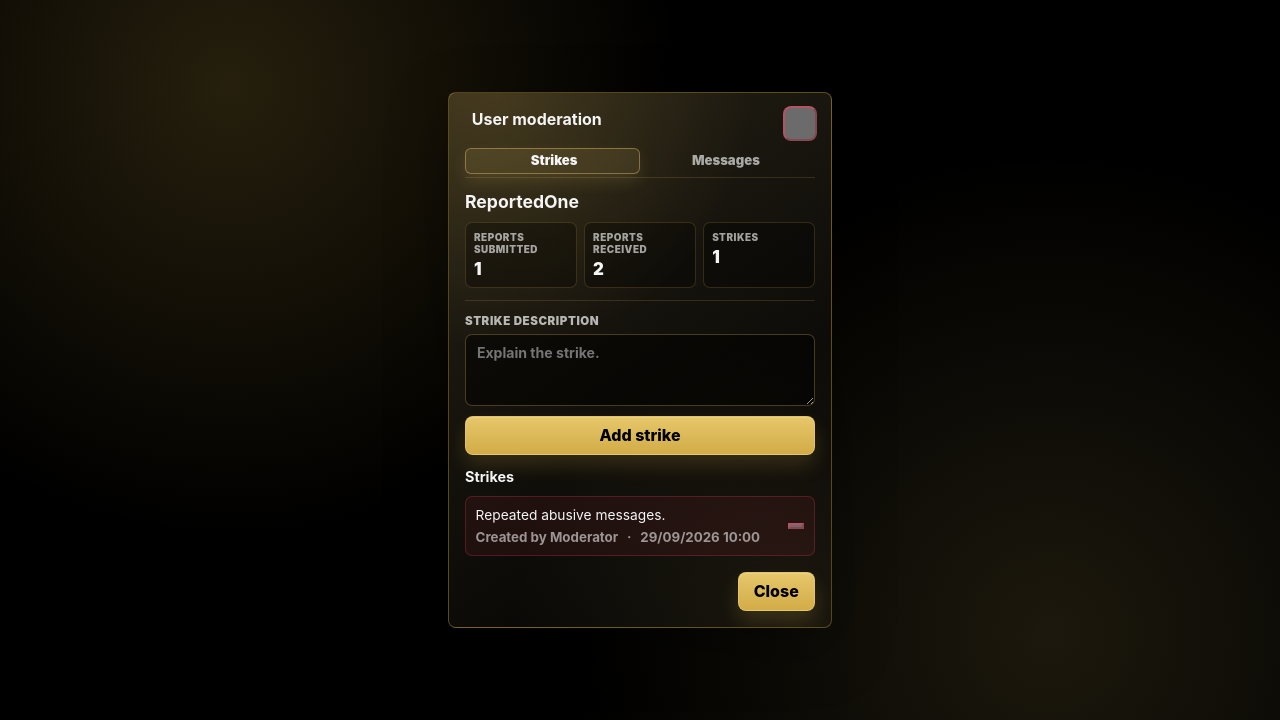
Test case: ModerationUserDrawerComponent › loads messages only after the Messages tab is selected and expands their content on demand
Step 1. Click the tab "Messages" → [726, 161], box [640, 148, 812, 174]
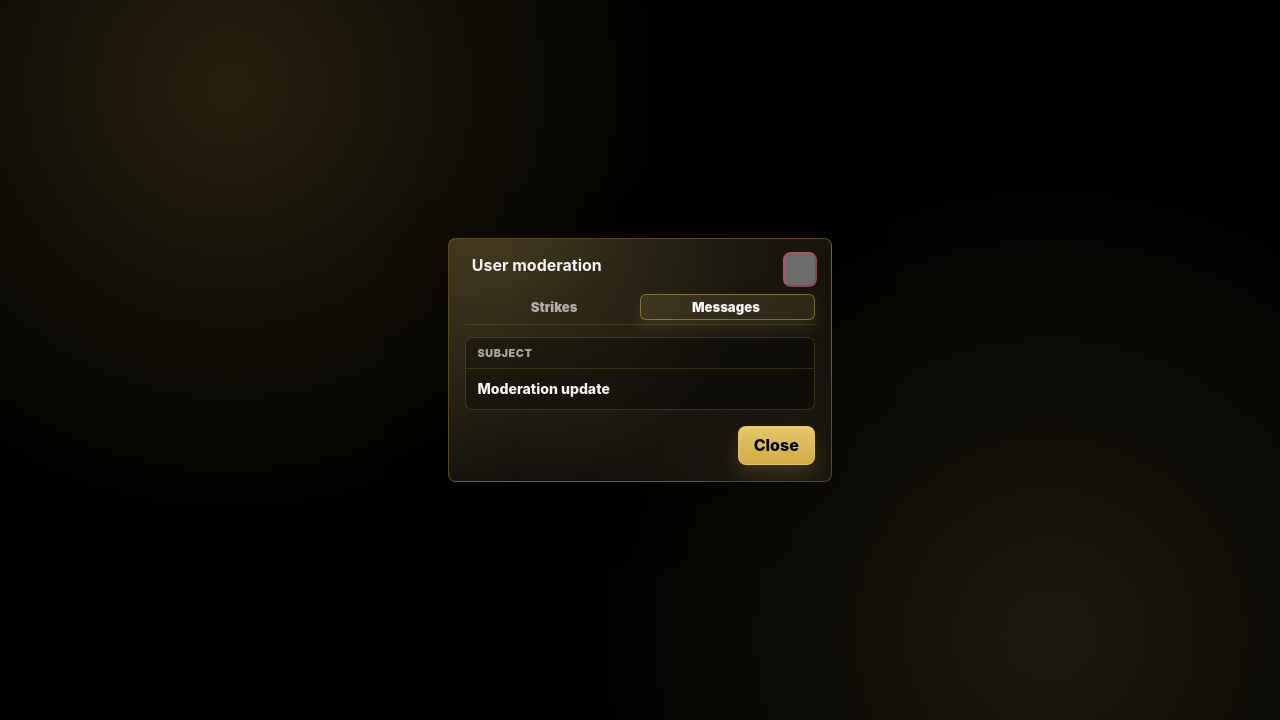
Now the text "Moderation update" is shown, box [478, 380, 610, 397]
Step 2. Click the button with class "moderation-user-message-row" → [544, 388], box [466, 369, 814, 409]
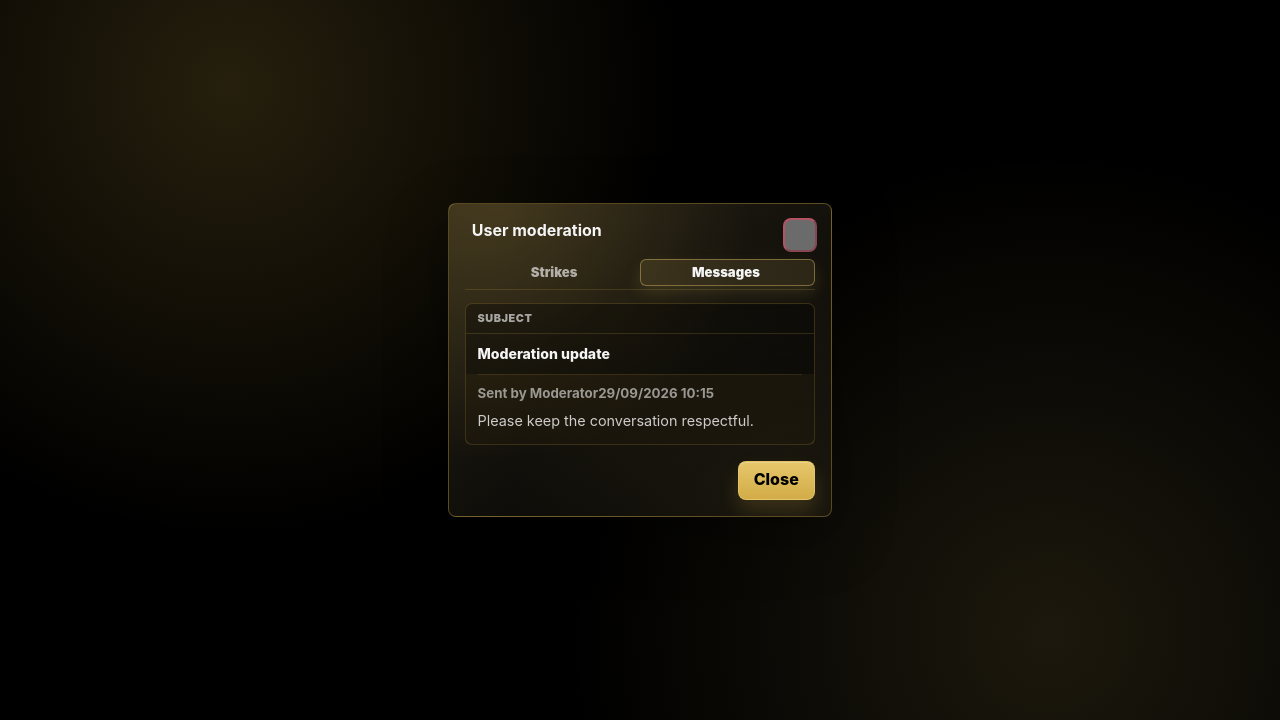
Now the element with class "moderation-user-message-details" shows "Moderator", box [478, 385, 598, 401]
Now the element with class "moderation-user-message-details" shows "Please keep the conversation respectful.", box [478, 412, 754, 429]
Step 3. Click the button with class "moderation-user-message-row" → [544, 353], box [466, 334, 814, 374]
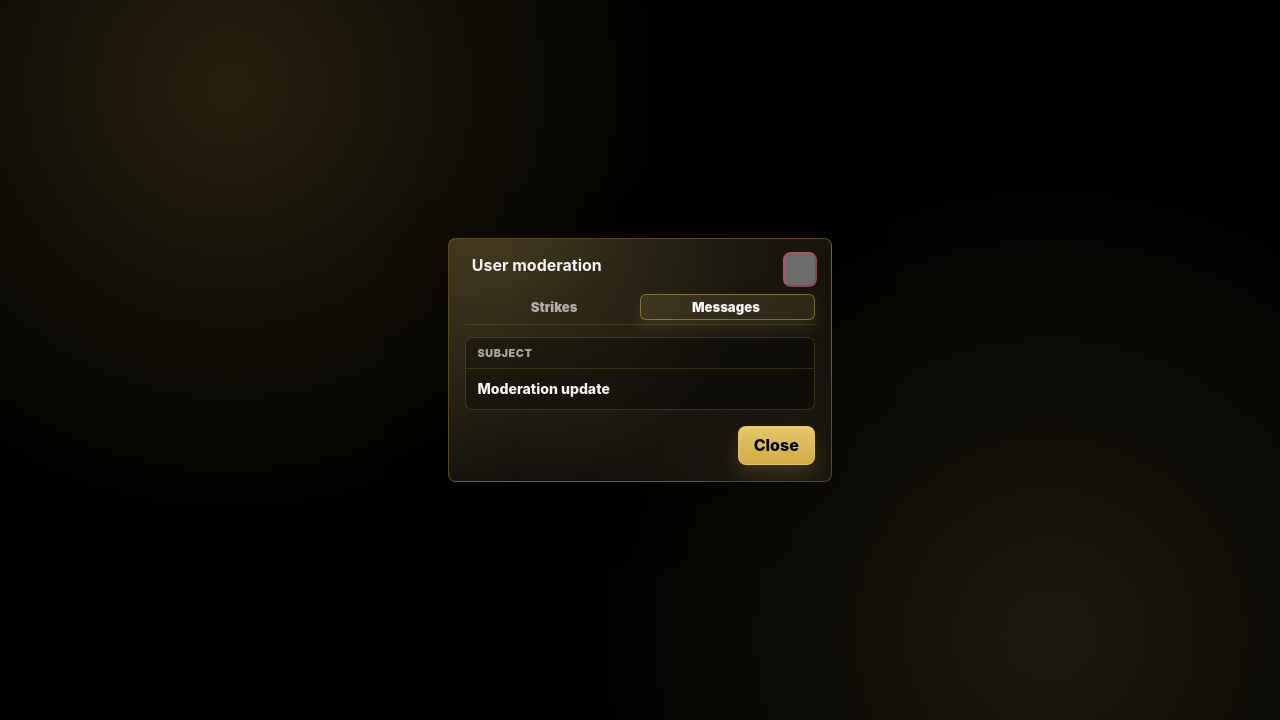
Now the element with class "moderation-user-message-details" is gone
